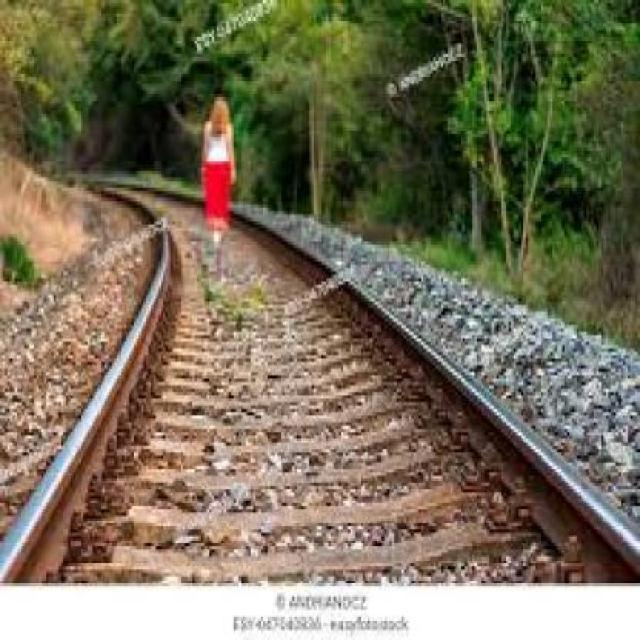people: (191, 94, 250, 306)
